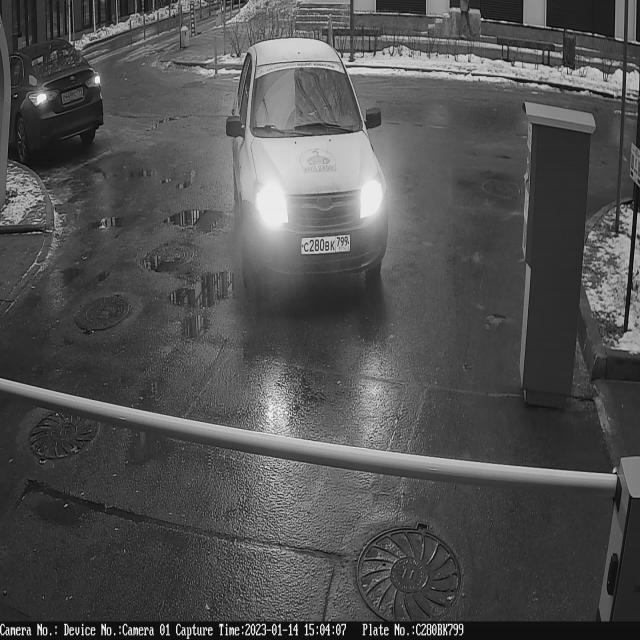car-plate-numbers: (301, 232, 354, 260)
